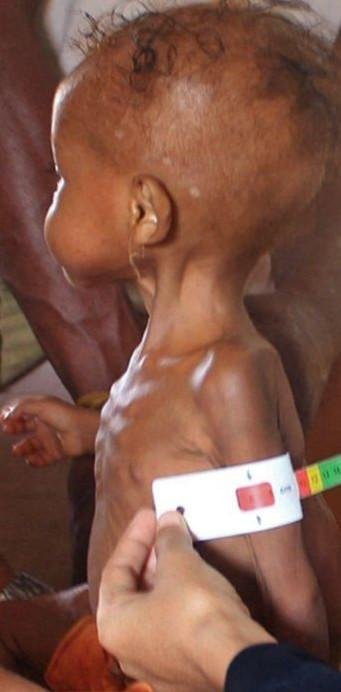Stunting: (12, 15, 341, 380)
